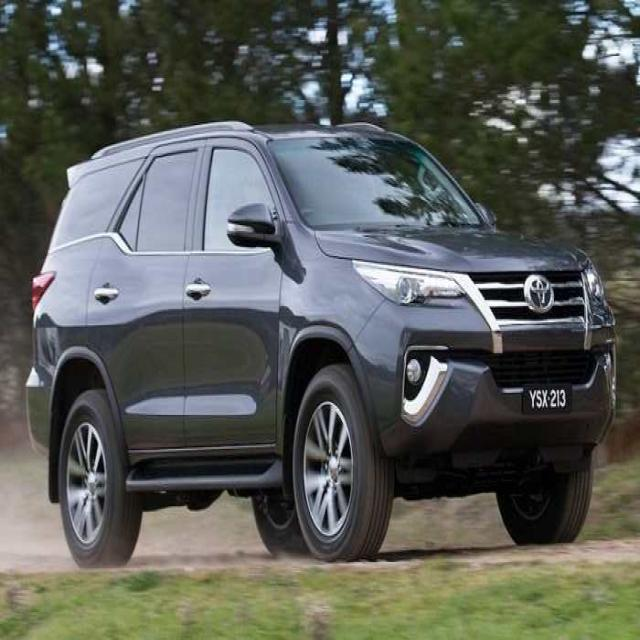light_vehicle: (24, 120, 617, 571)
